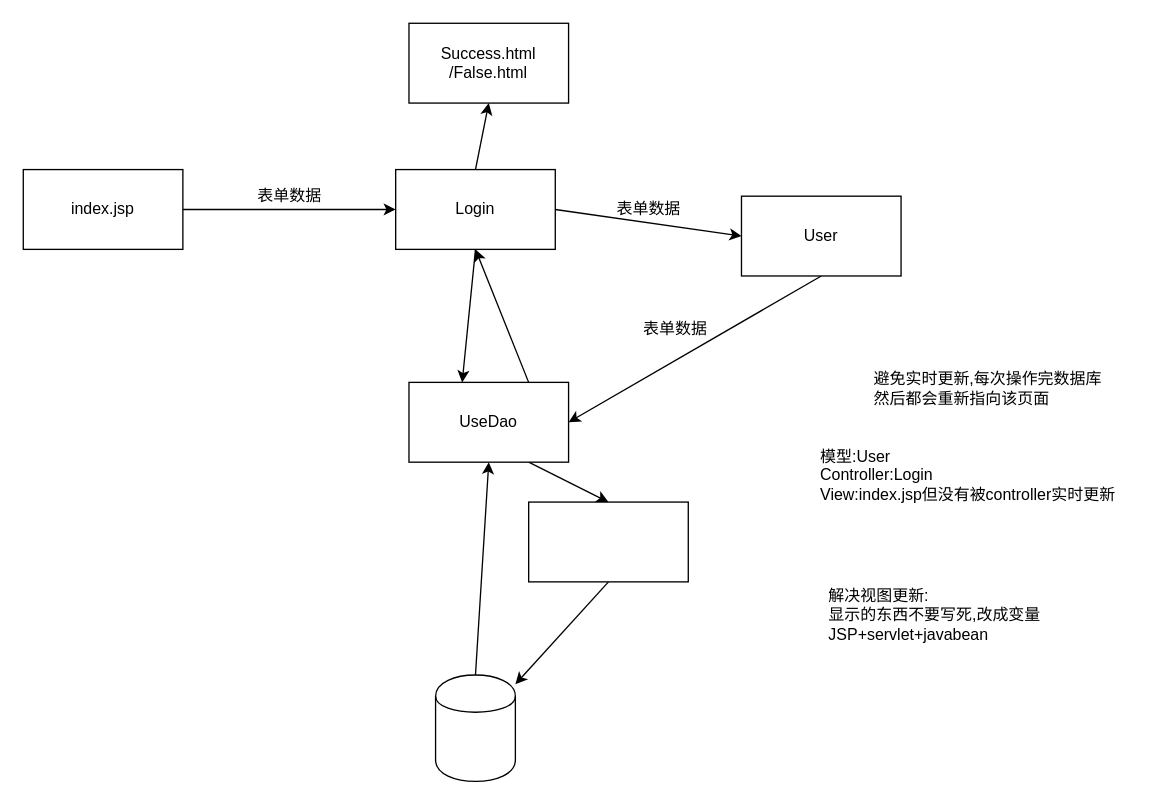
This 1157x805 diagram has some shape labels left out. The centre of each missing label's shape, as x and y in pixels:
"DATABASE" goes at point 474,727.
"DBConnection" goes at point 607,541.
